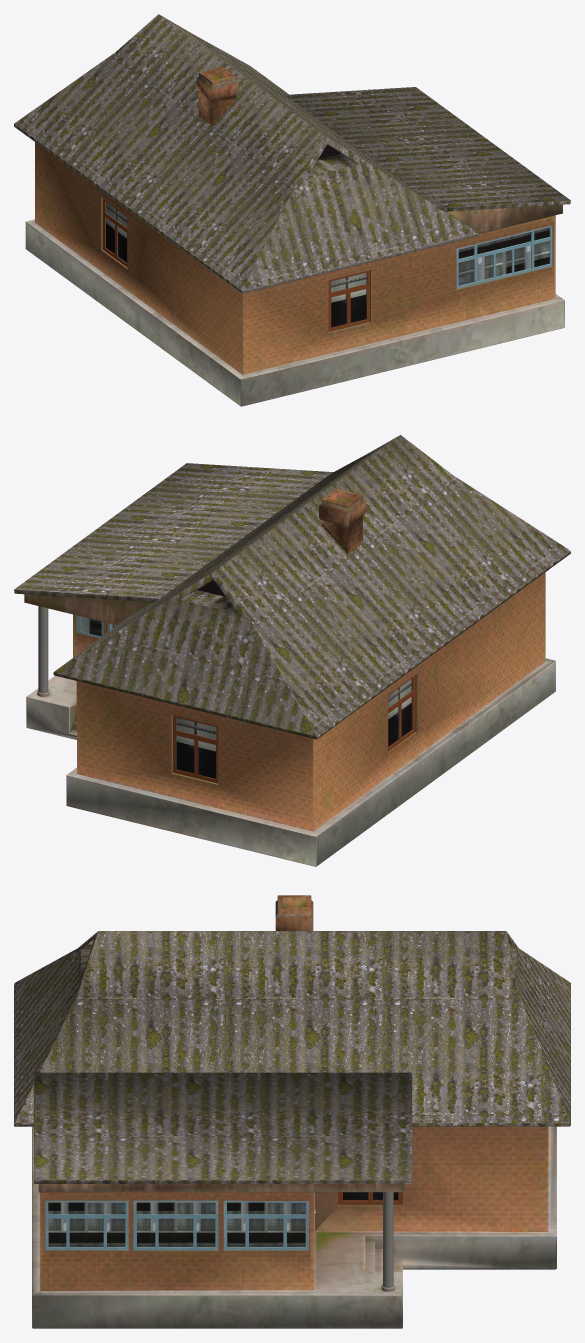
The model's file is sf-rural1.glb.
3 renders of one model, top to bottom at view 1: azimuth 30°, elevation 25°; view 2: azimuth 150°, elevation 25°; view 3: azimuth 270°, elevation 25°, orthographic. The views are drawn at different scales.
Visible parts, largest first — view 1: House; view 2: House; view 3: House.
Part boxes in pixels (x1,y1,x2,y2): House: (14,14,570,406); House: (14,435,570,866); House: (14,895,570,1328).
Size of the model in its own units: 8.77 by 5.8 by 10.3.
13 materials, 9 textured.
